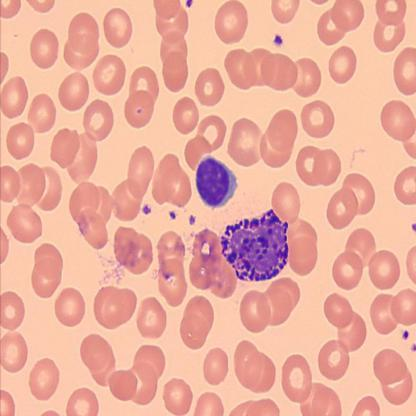Basophil: (221, 209, 290, 286), (194, 149, 238, 211)
